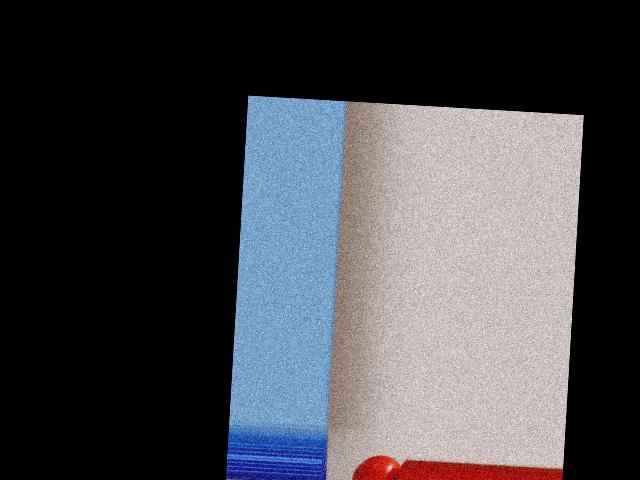tomato: (351, 454, 401, 480)
